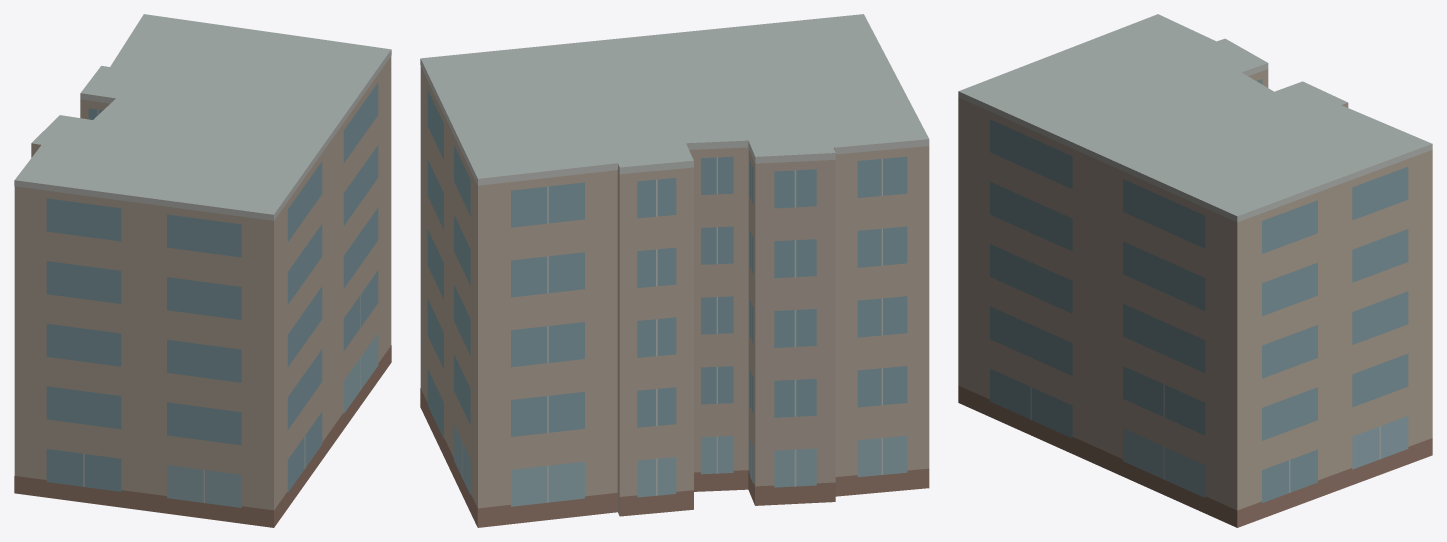
The model's file is survey-upis-32970285.glb.
3 views of the same model, side by side, from view 1: azimuth 30°, elevation 25°; view 2: azimuth 150°, elevation 25°; view 3: azimuth 270°, elevation 25° (orthographic). The views are drawn at different scales.
Visible parts, largest first — view 1: survey-upis-32970285.tmp; view 2: survey-upis-32970285.tmp; view 3: survey-upis-32970285.tmp.
Boxes of the visible parts, box(x1,y1,x2,y2) form: survey-upis-32970285.tmp: box(14, 14, 391, 527); survey-upis-32970285.tmp: box(420, 14, 929, 527); survey-upis-32970285.tmp: box(958, 14, 1432, 527).
Bounding box in the file's own units: 17.42 × 12.5 × 17.25.
